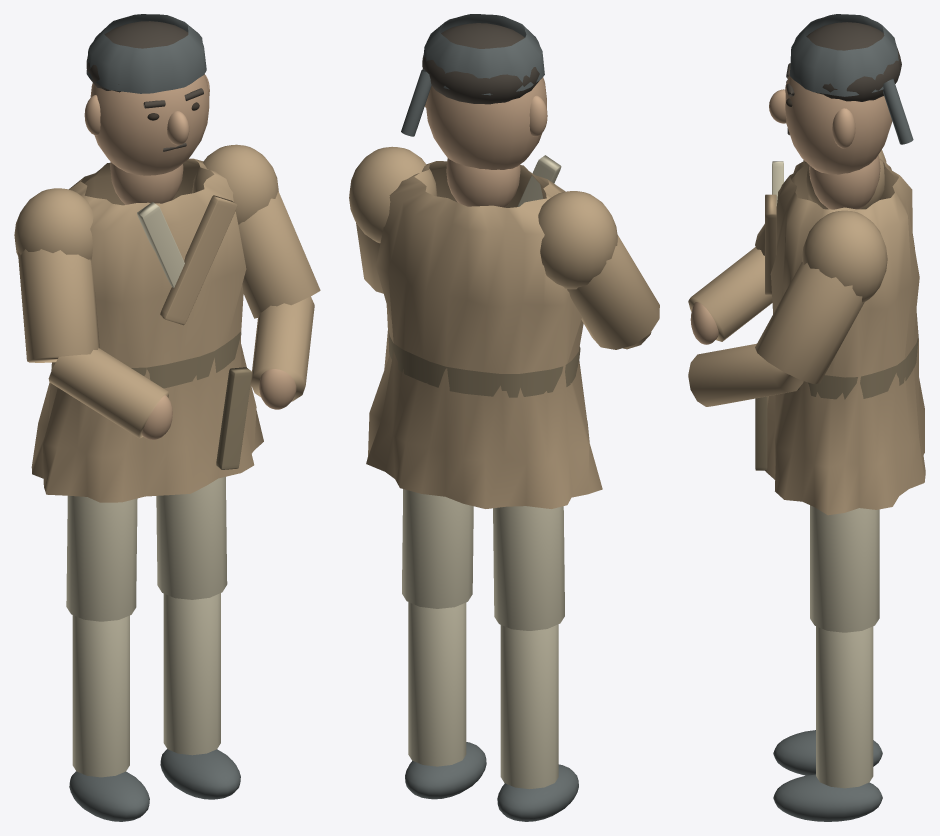
File: porter.glb
3 renders of one model, left to right at view 1: azimuth 30°, elevation 25°; view 2: azimuth 150°, elevation 25°; view 3: azimuth 270°, elevation 25°, orthographic.
Visible parts, largest first — view 1: Cross-collar working coat.002, shin.004, shin.005, thigh.004, upper.004, thigh.005, Face.002, upper.005, Soft cloth cap.001, fore.004, Shoulder.004, fore.005 (+12 smaller); view 2: Cross-collar working coat.002, shin.004, shin.005, thigh.004, thigh.005, Face.002, Shoulder.004, upper.004, Soft cloth cap.001, Hair crown.002, Shoulder.005, Woven waist sash.002 (+7 smaller); view 3: Cross-collar working coat.002, shin.005, thigh.005, upper.005, Face.002, Shoulder.005, Soft cloth cap.001, fore.005, fore.004, Cloth shoe.005, Hair crown.002, Neck.002 (+9 smaller).
Boxes of the visible parts, bbox=[...] form: Cross-collar working coat.002: bbox=[31, 158, 263, 502]; shin.004: bbox=[72, 615, 129, 777]; shin.005: bbox=[163, 593, 220, 755]; thigh.004: bbox=[66, 495, 137, 621]; upper.004: bbox=[18, 249, 99, 362]; thigh.005: bbox=[156, 476, 227, 599]; Face.002: bbox=[90, 74, 209, 175]; upper.005: bbox=[238, 191, 320, 318]; Soft cloth cap.001: bbox=[86, 14, 206, 93]; fore.004: bbox=[48, 348, 168, 438]; Shoulder.004: bbox=[14, 188, 93, 260]; fore.005: bbox=[250, 296, 314, 401]; Cross-collar working coat.002: bbox=[366, 161, 602, 508]; shin.004: bbox=[500, 624, 558, 789]; shin.005: bbox=[408, 602, 466, 766]; thigh.004: bbox=[493, 506, 564, 630]; thigh.005: bbox=[402, 489, 473, 608]; Face.002: bbox=[425, 77, 546, 169]; Shoulder.004: bbox=[538, 191, 617, 289]; upper.004: bbox=[567, 234, 659, 349]; Soft cloth cap.001: bbox=[423, 14, 544, 95]; Hair crown.002: bbox=[422, 23, 539, 104]; Shoulder.005: bbox=[349, 146, 437, 243]; Woven waist sash.002: bbox=[388, 329, 580, 397]; Cross-collar working coat.002: bbox=[765, 159, 925, 515]; shin.005: bbox=[816, 626, 873, 788]; thigh.005: bbox=[810, 505, 879, 632]; upper.005: bbox=[755, 262, 864, 384]; Face.002: bbox=[785, 73, 892, 174]; Shoulder.005: bbox=[802, 210, 887, 302]; Soft cloth cap.001: bbox=[789, 14, 899, 96]; fore.005: bbox=[688, 343, 803, 406]; fore.004: bbox=[688, 247, 772, 341]; Cloth shoe.005: bbox=[773, 774, 882, 821]; Hair crown.002: bbox=[806, 22, 901, 101]; Neck.002: bbox=[809, 155, 880, 209].
Bounding box in the file's own units: 0.6902 × 1.77 × 0.4983.
